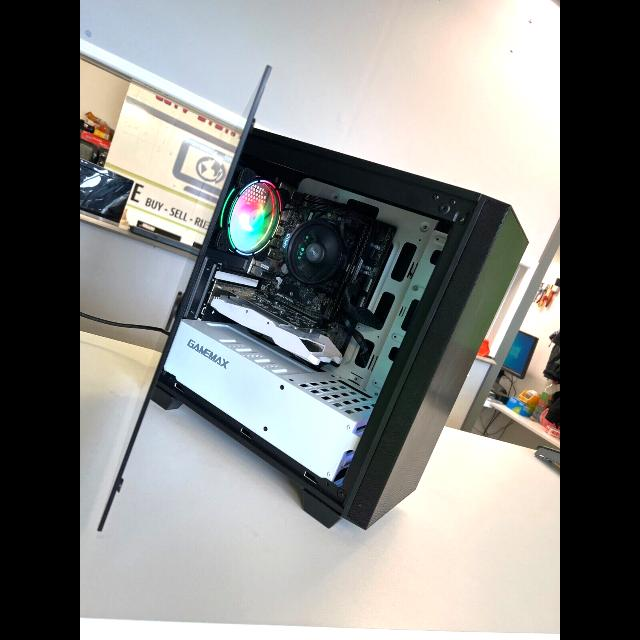Desktop-PC: (148, 116, 520, 528)
